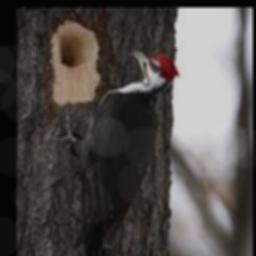Woodpecker: (55, 49, 179, 256)
